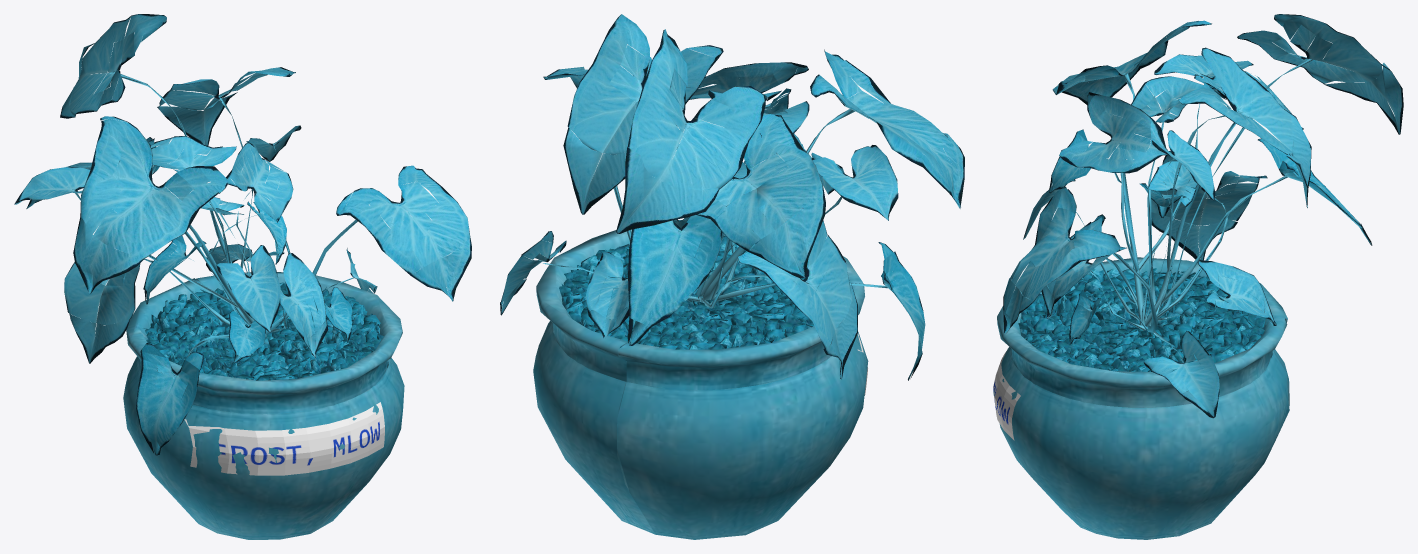
File: nyb_penguins_plant.glb
3 renders of one model, left to right at view 1: azimuth 30°, elevation 25°; view 2: azimuth 150°, elevation 25°; view 3: azimuth 270°, elevation 25°, orthographic. The views are drawn at different scales.
Visible parts, largest first — view 1: potted_plant_02_pot, stk_lbl_1a84a810d6.png; view 2: potted_plant_02_pot; view 3: potted_plant_02_pot, stk_lbl_1a84a810d6.png.
Part boxes in pixels (box(x1,y1,x2,y2)): potted_plant_02_pot: box(14, 14, 471, 539); stk_lbl_1a84a810d6.png: box(184, 402, 384, 475); potted_plant_02_pot: box(500, 14, 964, 539); potted_plant_02_pot: box(993, 14, 1403, 539); stk_lbl_1a84a810d6.png: box(993, 351, 1020, 440).
Bounding box in the file's own units: 0.7008 × 0.8423 × 0.6584.
Materials: 3 (3 with a texture image).
